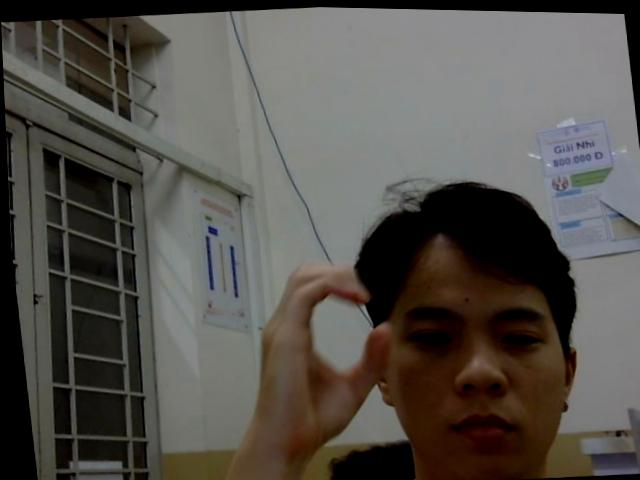C: (237, 251, 400, 453)
